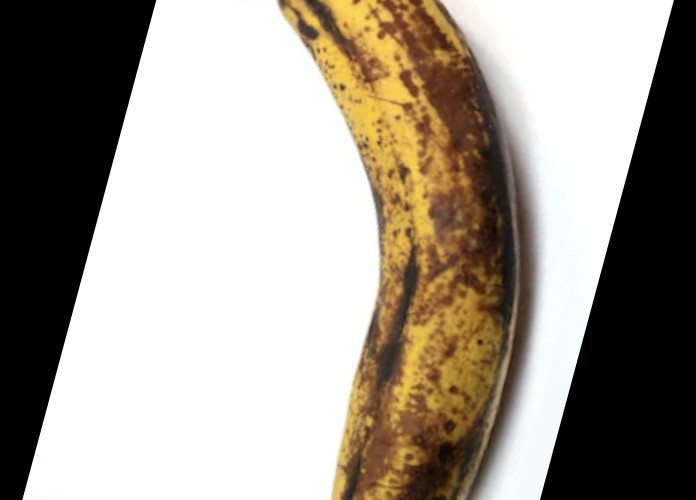rotten_banana: (266, 1, 514, 500)
